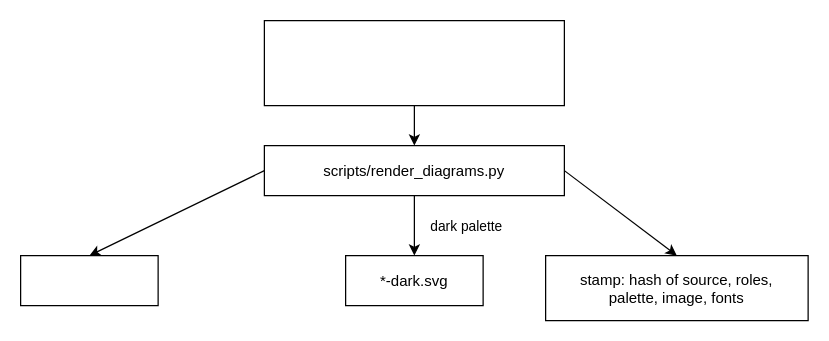
Some shapes in this 829 by 341 pixel diagram are drawn without their labels. Each missing label, with the box of its shape:
*-light.svg: (19, 254, 158, 306)
docs/_diagrams/*.drawio docs-tech/_diagrams/*.drawio roles, not colours: (263, 19, 564, 106)
